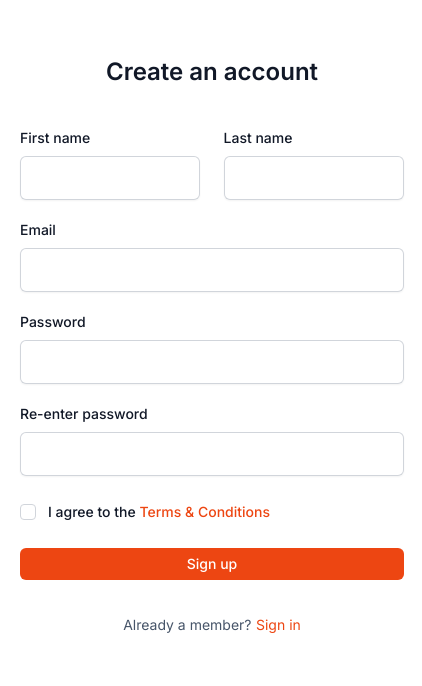
Test: Sign up page scenarios › Should not create a  user with email as blank
Type "melissa" into the field with test id "first-name".
click(111, 178); type("melissa")  # box [20, 156, 201, 200]
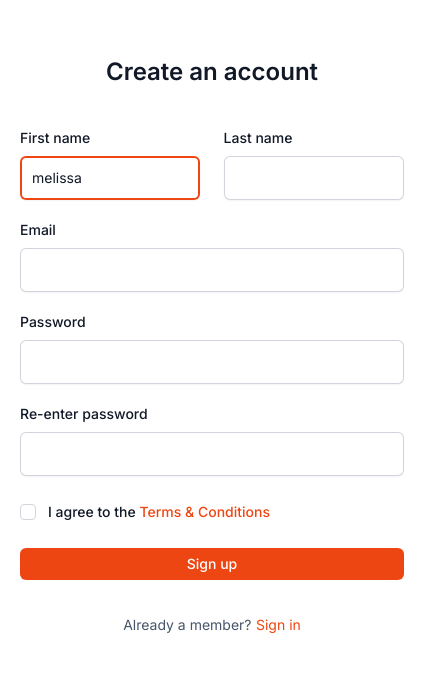
Type "thomas" into the field with test id "last-name".
click(315, 178); type("thomas")  # box [224, 156, 405, 200]
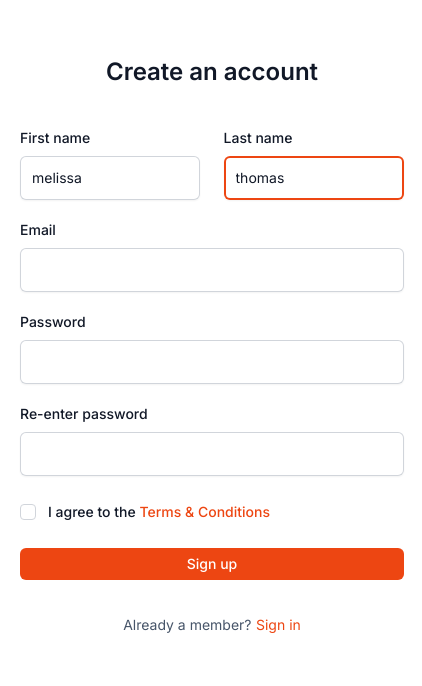
Type "Test@7777" into the password field with test id "password".
click(212, 362); type("Test@7777")  # box [20, 340, 404, 384]
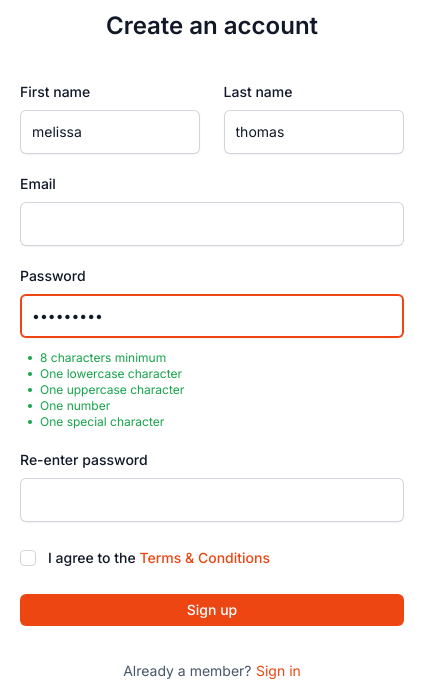
Type "Test@7777" into the password field with test id "password-confirmation".
click(212, 500); type("Test@7777")  # box [20, 478, 404, 522]
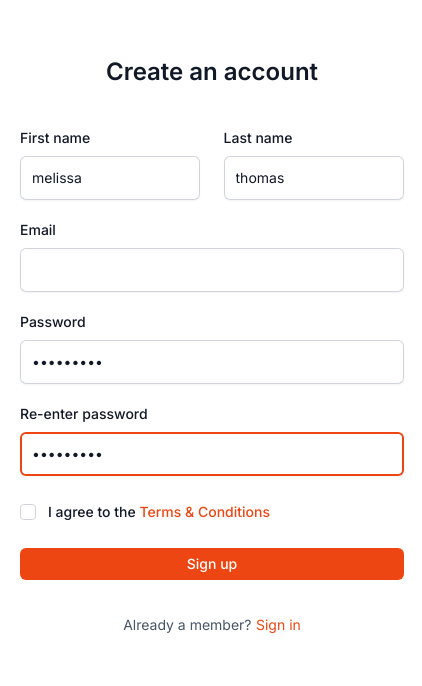
Click the checkbox with test id "terms-and-conditions".
click(28, 512)  # box [20, 504, 36, 520]
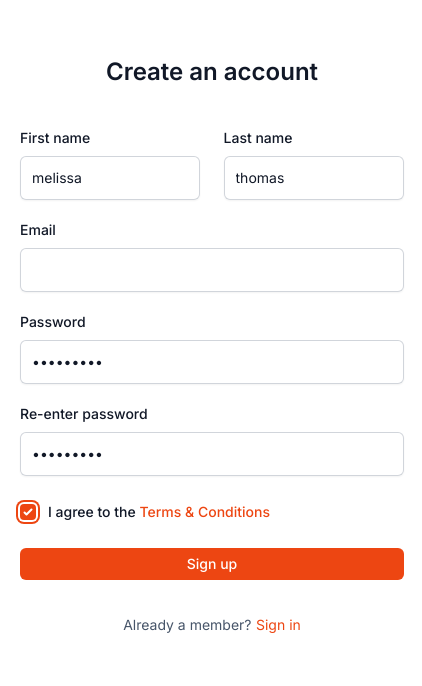
Click the button with test id "submit-button".
click(212, 564)  # box [20, 548, 404, 580]
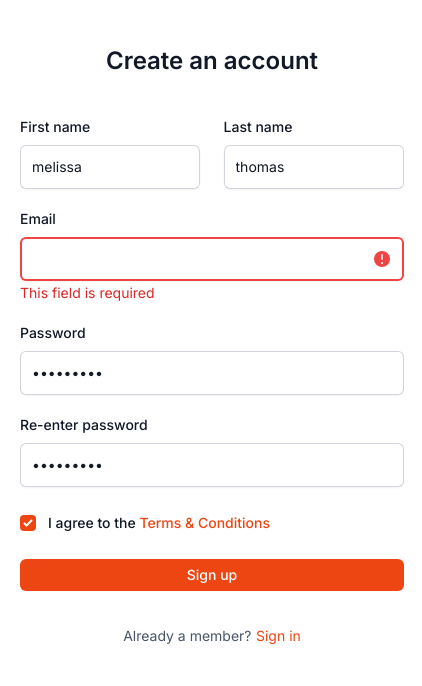
Result: the text "This field is required" is shown at [20, 284, 155, 301]
